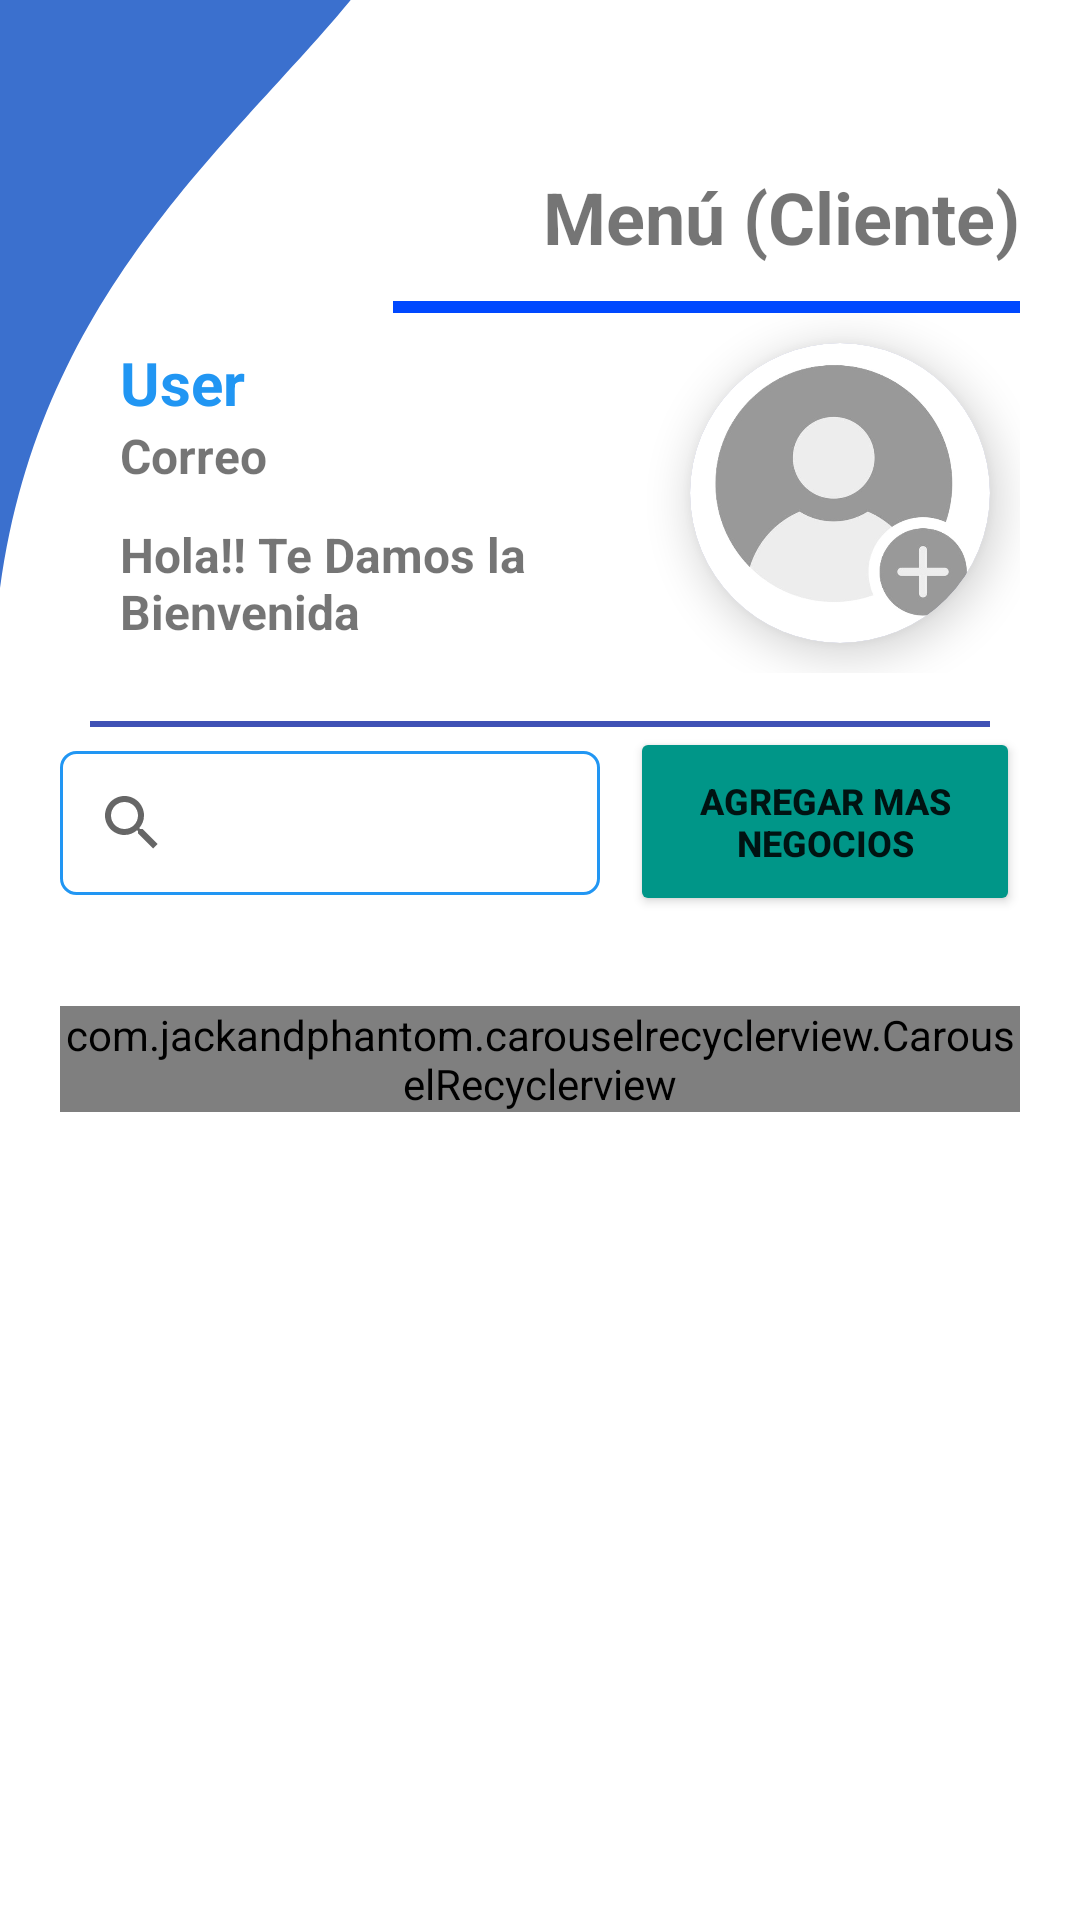

Point at icon controls on the screen. Image size 1080px x 1920px, points as (x=x, y=y).
perfil: (x=825, y=458)
